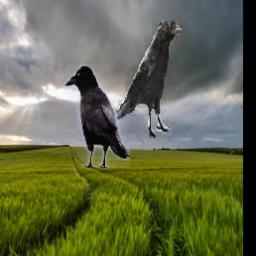Crow: (115, 22, 184, 139), (64, 64, 130, 168)
